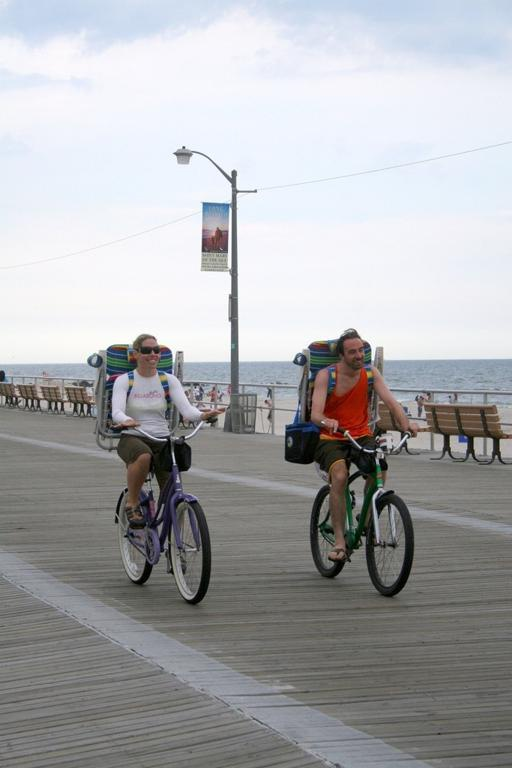non-vehicle: (110, 408, 219, 605), (305, 418, 418, 599)
